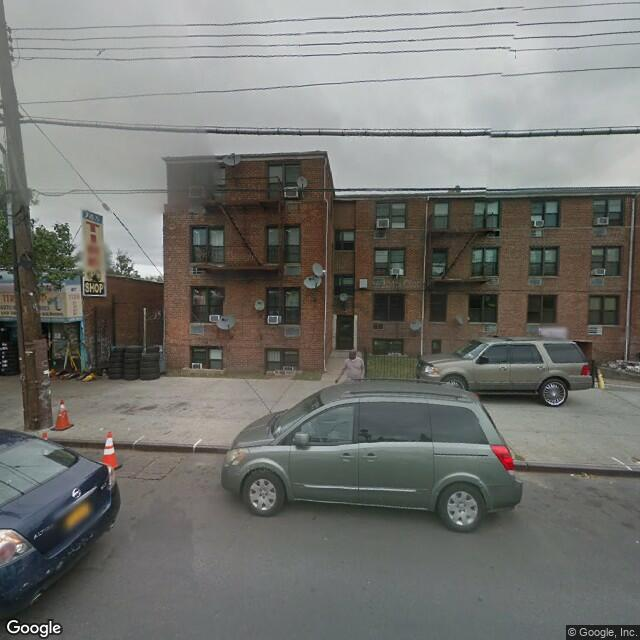litter: (569, 472, 576, 479), (99, 426, 103, 432)
